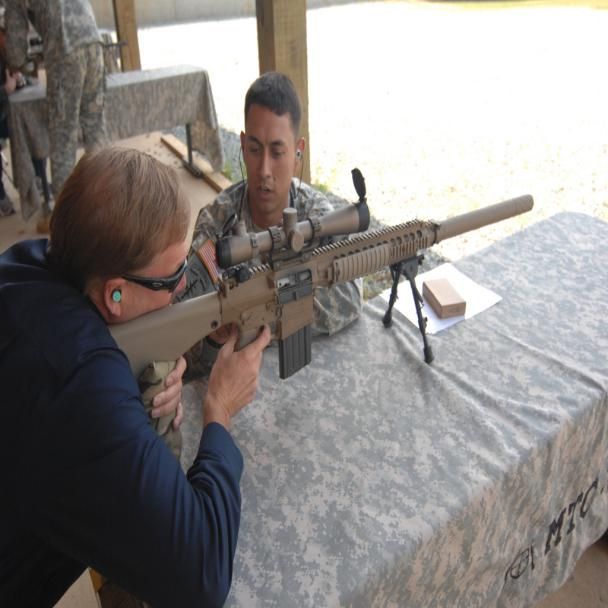Gun: (110, 156, 544, 390)
Hand: (206, 318, 278, 443), (146, 357, 192, 430)
